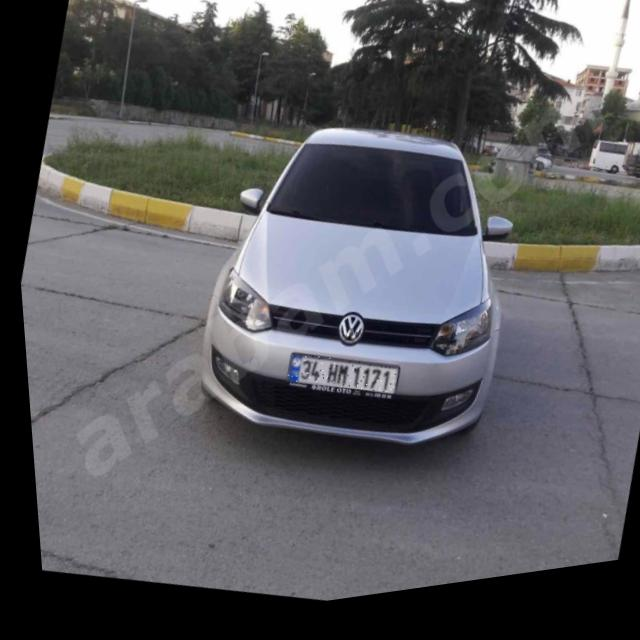license_plate: (277, 349, 394, 416)
